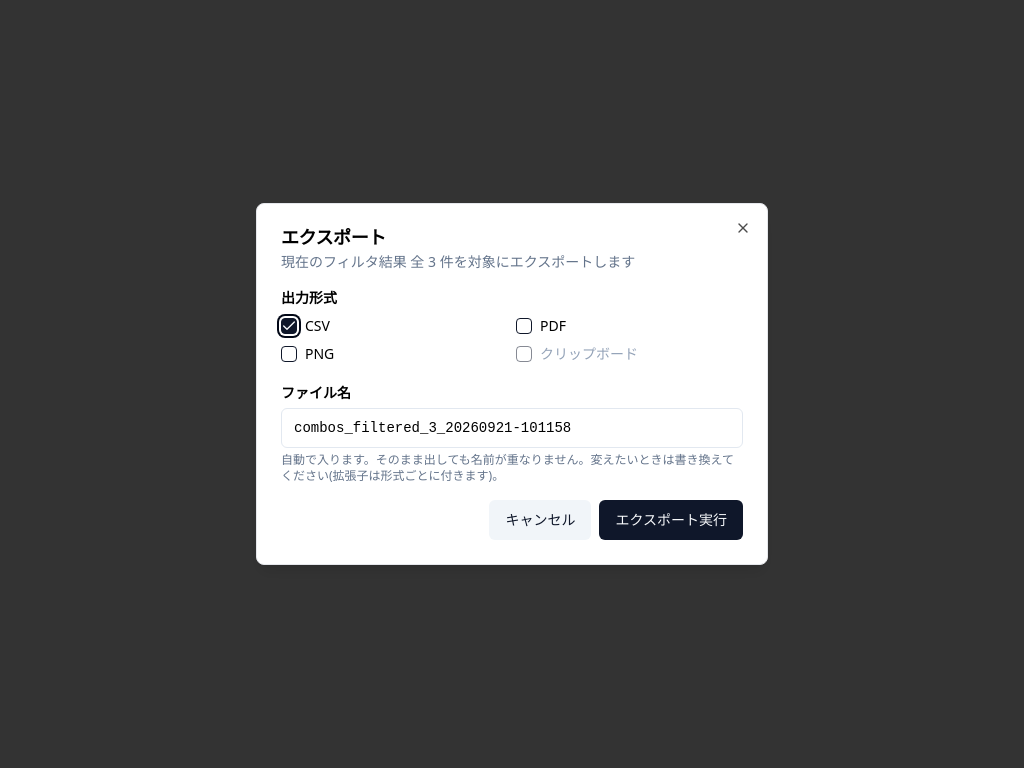
Test case: ExportDialog › 行数上限の切り捨て › 確認を出している間のキャンセルは、出力を取りやめるがダイアログは閉じない
Click the button "エクスポート実行": {"x": 671, "y": 520} [599, 500, 743, 540]
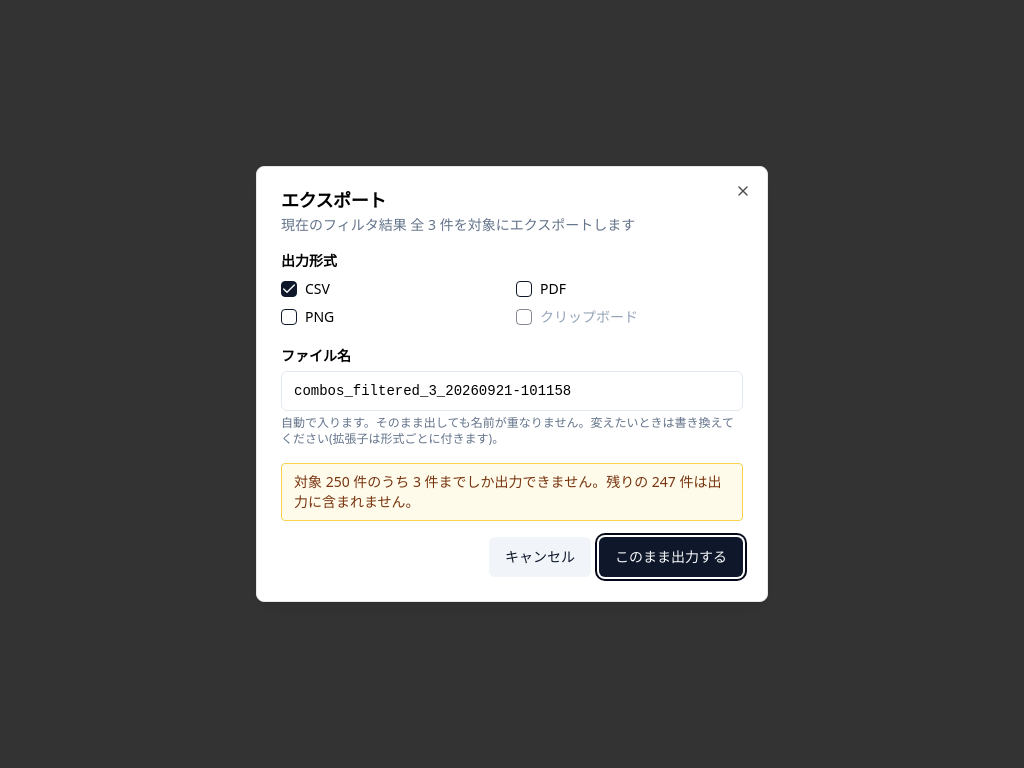
Click the button "キャンセル": {"x": 540, "y": 557} [489, 537, 591, 577]
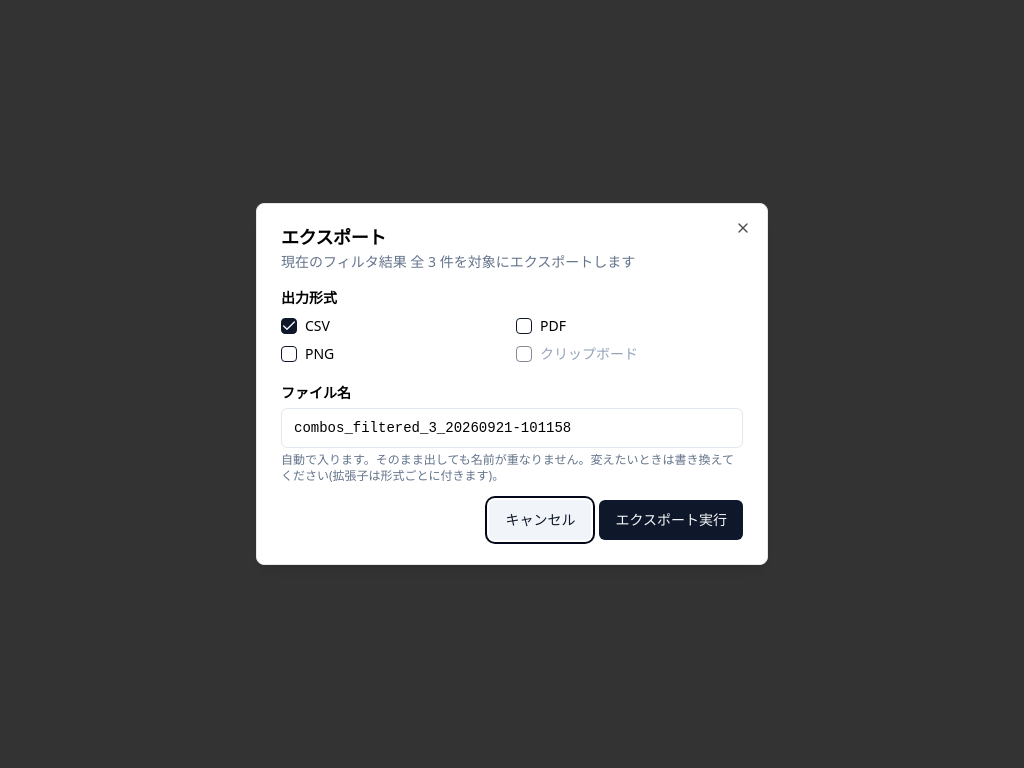
Expected: the message with test id "export-truncation-confirm" is gone
